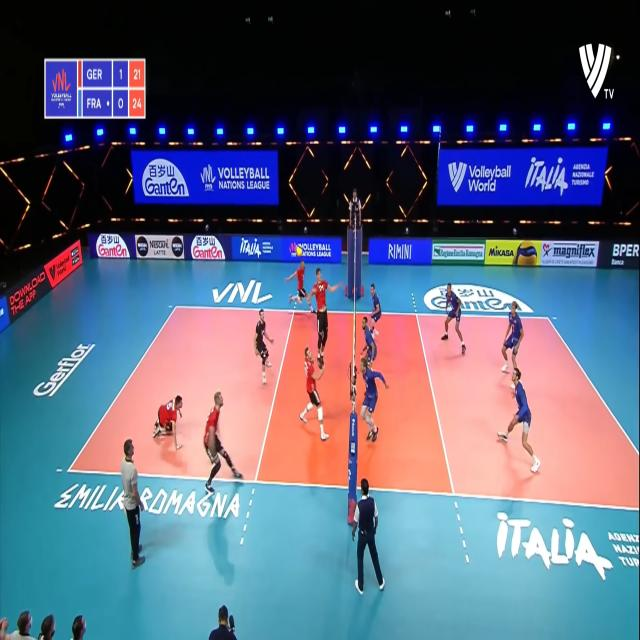player: (497, 369, 545, 471), (203, 390, 246, 495), (307, 267, 342, 359), (299, 347, 329, 443), (358, 357, 389, 444), (442, 282, 468, 357), (502, 298, 526, 376), (154, 393, 184, 448), (255, 309, 273, 386), (284, 261, 308, 303), (360, 318, 378, 368), (367, 283, 384, 327)
